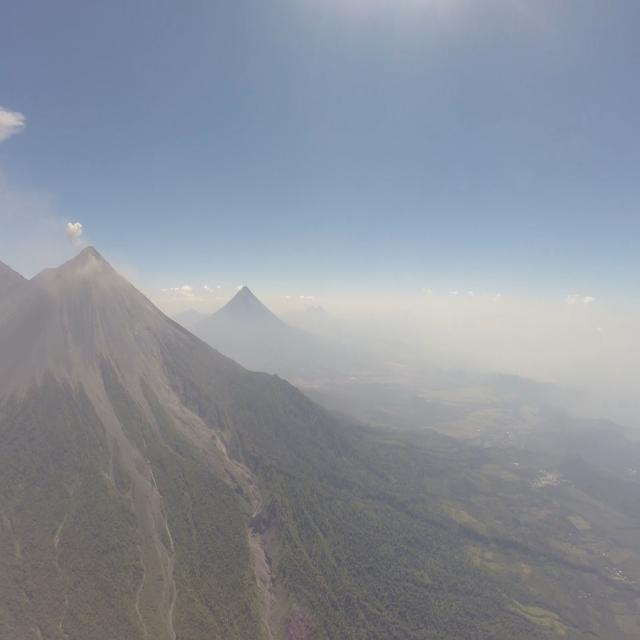Plume: (64, 218, 82, 245)
Summit: (66, 242, 112, 270)
